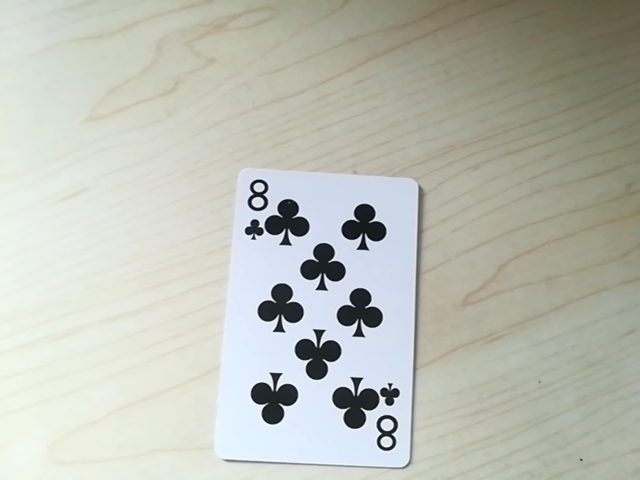mh 8: (236, 175, 281, 241), (368, 387, 407, 458)
